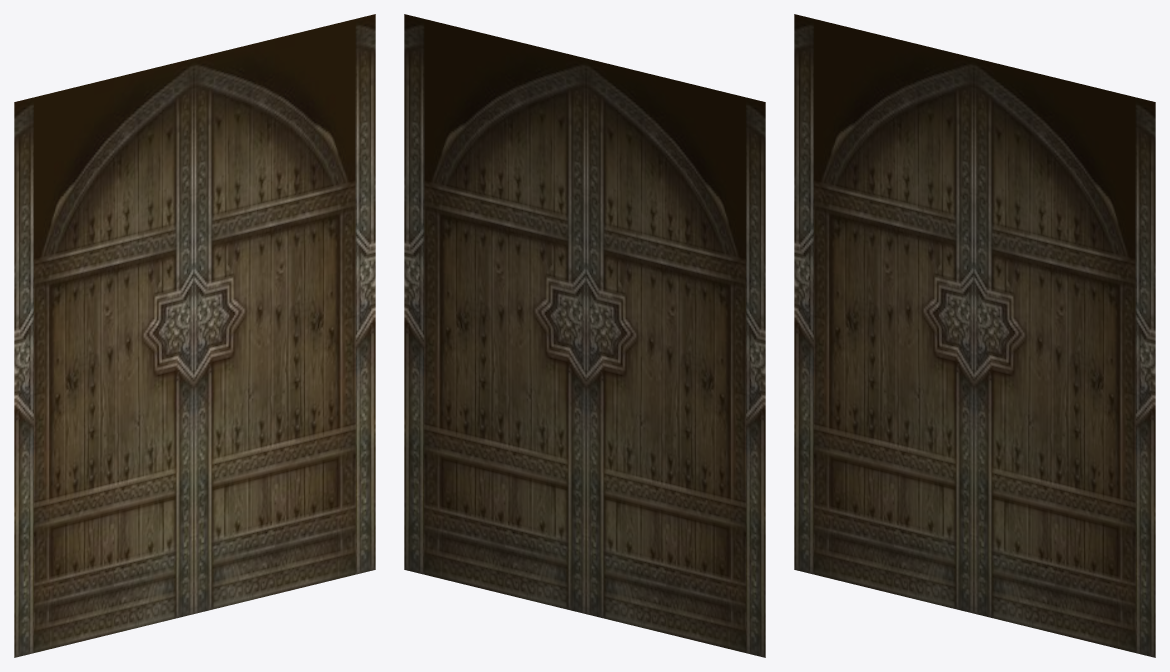
File: bagh_city_rgate_door_event.glb
The picture shows the model from 3 angles, left to right: view 1: azimuth 30°, elevation 25°; view 2: azimuth 150°, elevation 25°; view 3: azimuth 330°, elevation 25°; orthographic projection.
Visible parts, largest first — view 1: res\bldg\arabia\bagh_city\bagh_city_rgate_door_event.bsr; view 2: res\bldg\arabia\bagh_city\bagh_city_rgate_door_event.bsr; view 3: res\bldg\arabia\bagh_city\bagh_city_rgate_door_event.bsr.
Part boxes in pixels (left/top/right/bottom): res\bldg\arabia\bagh_city\bagh_city_rgate_door_event.bsr: left=14, top=14, right=375, bottom=657; res\bldg\arabia\bagh_city\bagh_city_rgate_door_event.bsr: left=404, top=14, right=765, bottom=657; res\bldg\arabia\bagh_city\bagh_city_rgate_door_event.bsr: left=794, top=14, right=1155, bottom=657.
Size of the model in its own units: 109 by 160 by 6.45e-06.
1 material, 1 textured.
